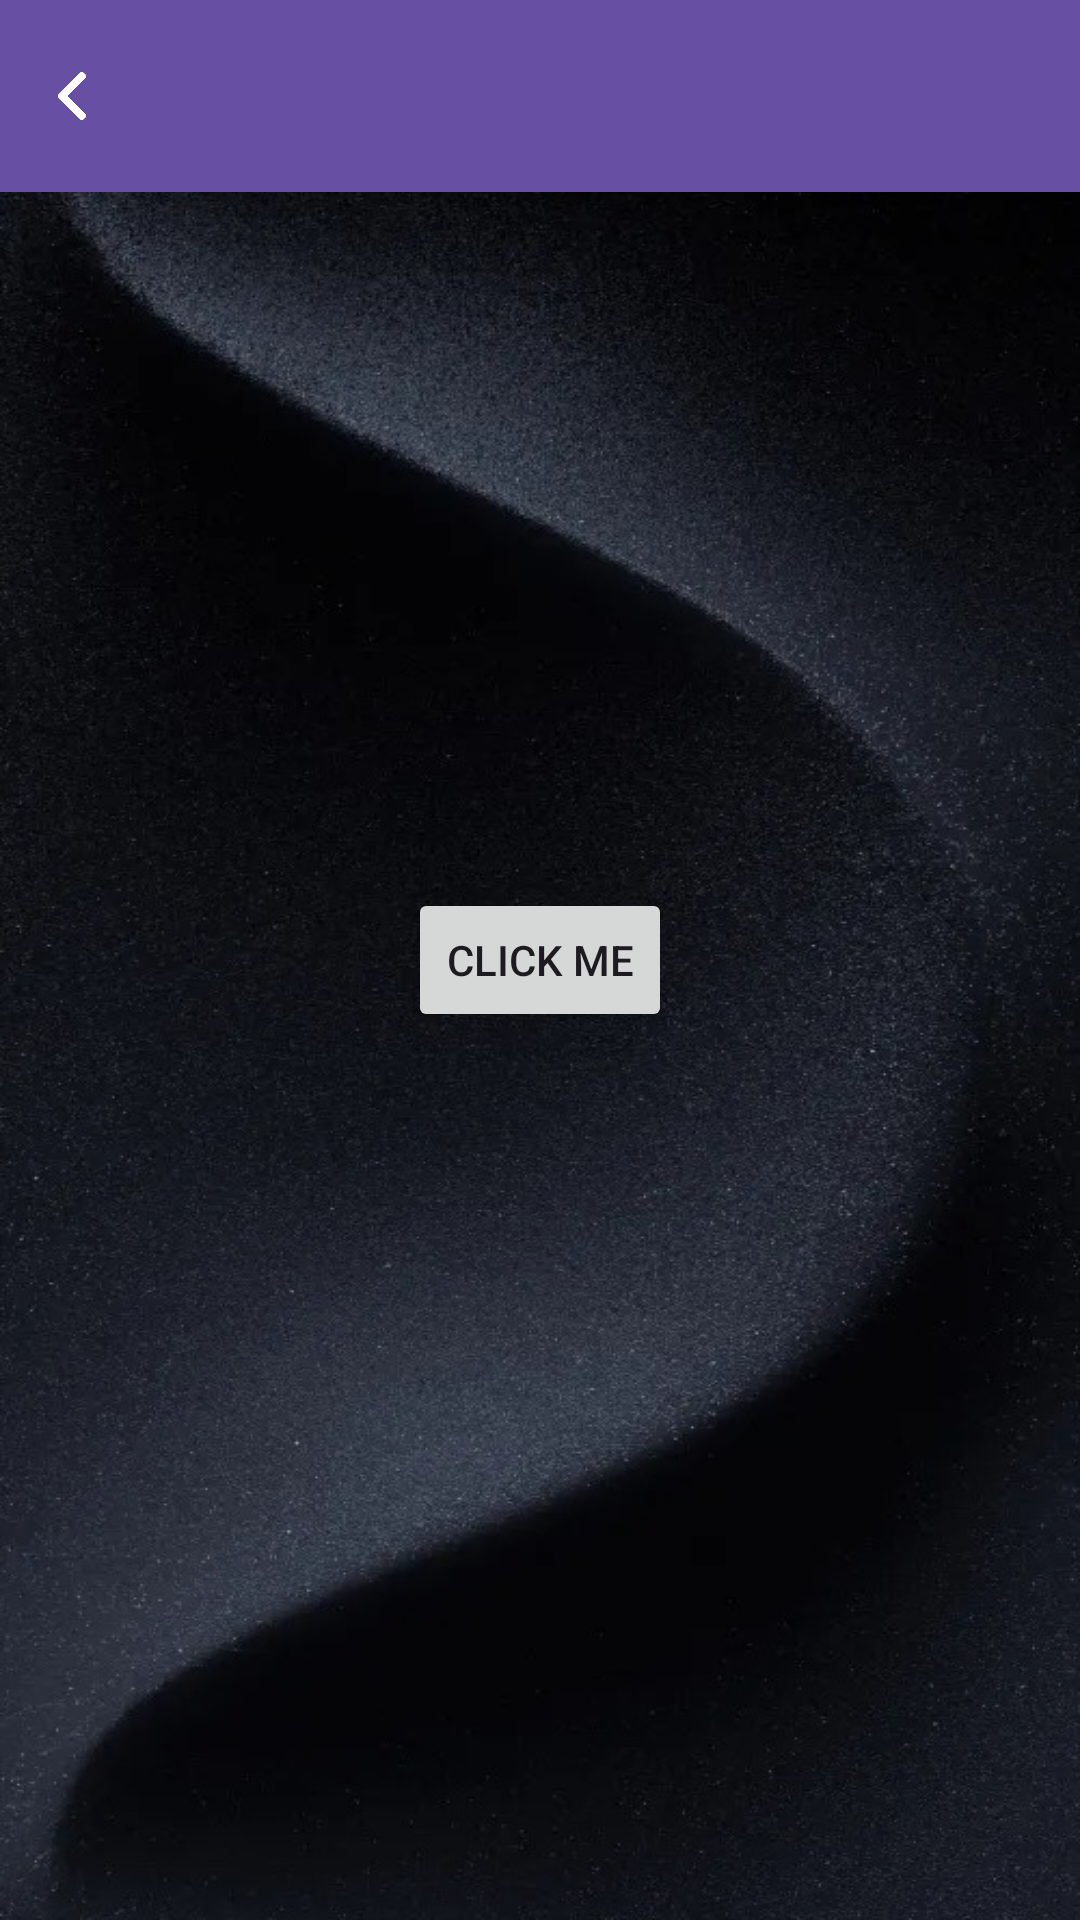

Icon click points for this 1080w x 1920h phone screenshot, format point (x, y):
arrow back: point (72, 96)
